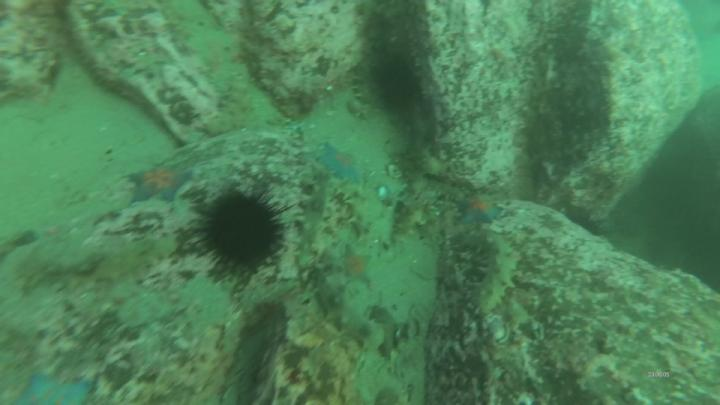echinus: (200, 188, 283, 277), (370, 51, 424, 112)
holothurian: (316, 271, 384, 353), (96, 235, 179, 280), (478, 231, 519, 317), (204, 74, 251, 136), (400, 145, 442, 196), (390, 202, 435, 248)
starfish: (127, 162, 195, 208), (13, 370, 99, 405), (316, 138, 365, 185), (335, 243, 376, 288), (455, 191, 504, 228)
